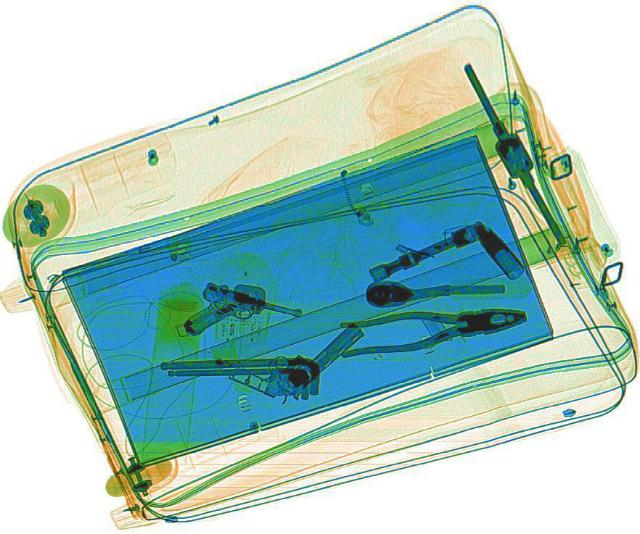Gun: (225, 295, 368, 408), (177, 275, 307, 358)
Pliers: (332, 294, 530, 360)
